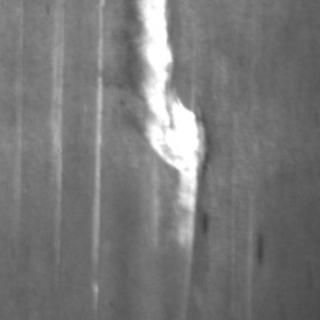scratches: (128, 0, 204, 252), (42, 1, 66, 260), (86, 0, 105, 260)
